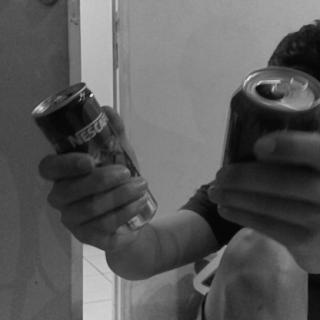alumunium_can: (34, 84, 158, 236), (221, 64, 320, 168)
